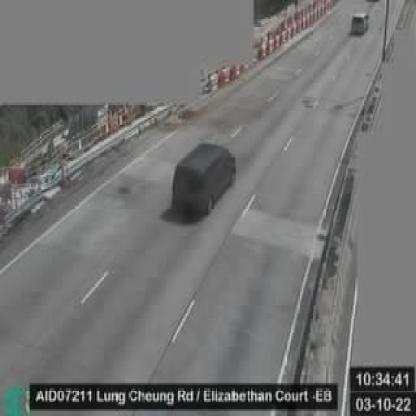Car: (172, 144, 236, 215), (348, 10, 368, 35)
